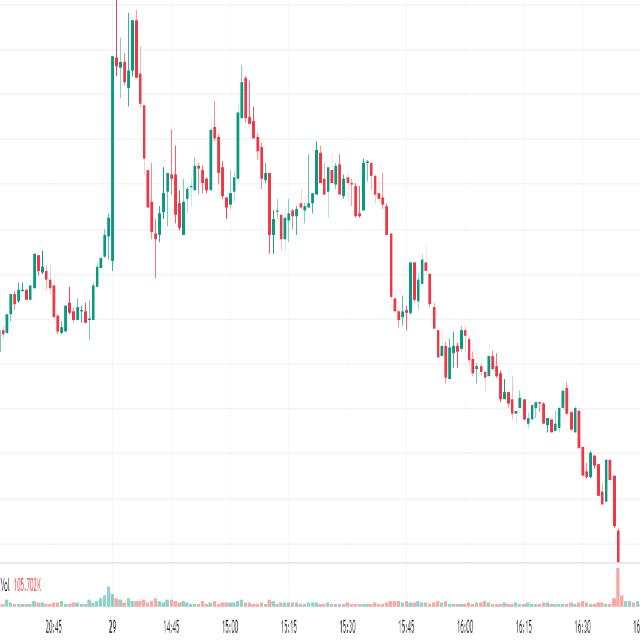Descending-Triangle: (97, 0, 402, 255)
Falling-Wedge: (394, 227, 565, 455)
